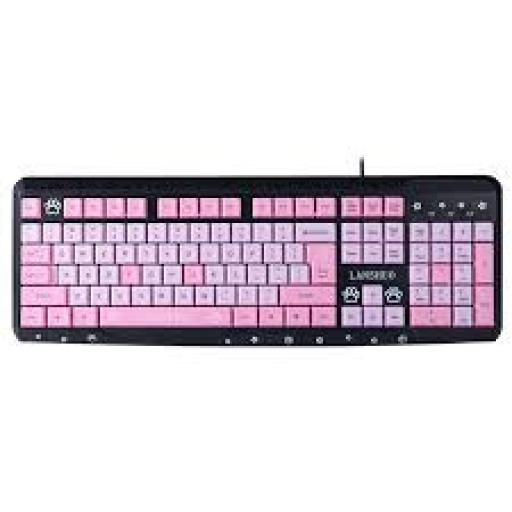KEYBOARD-2: (7, 169, 501, 341)
